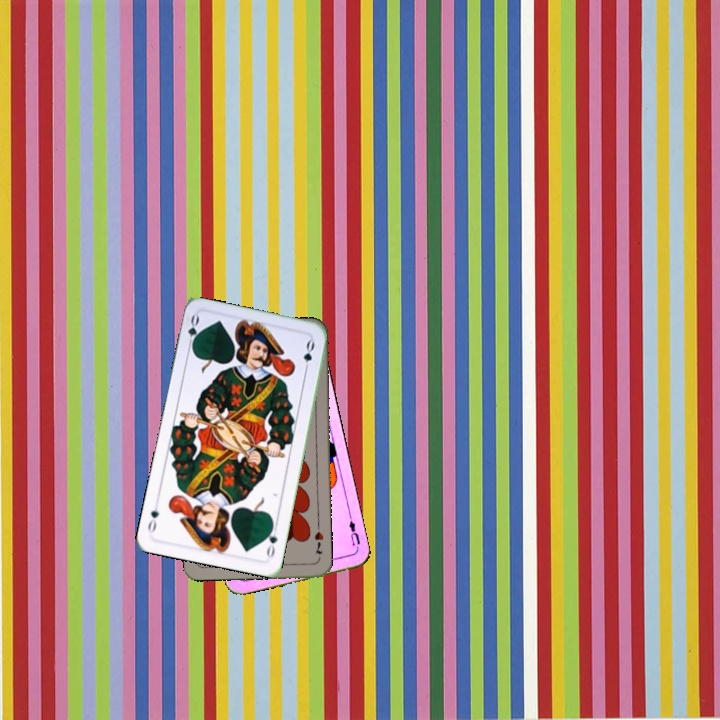EU: (345, 512, 363, 553)
GO: (184, 311, 202, 352), (262, 520, 280, 560)
H7: (310, 528, 326, 556)
